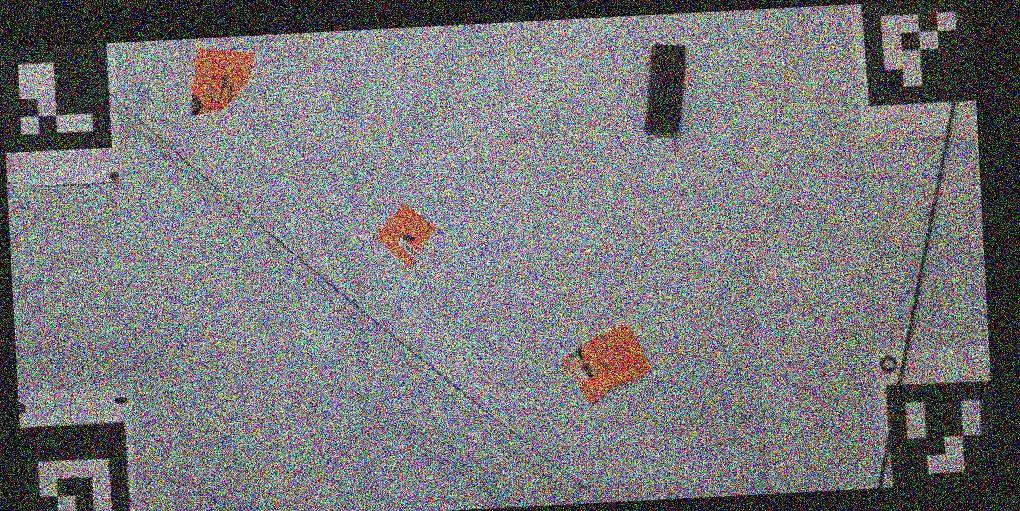obstacle: (563, 320, 651, 404), (189, 49, 257, 117), (641, 45, 687, 136), (374, 203, 437, 265)
